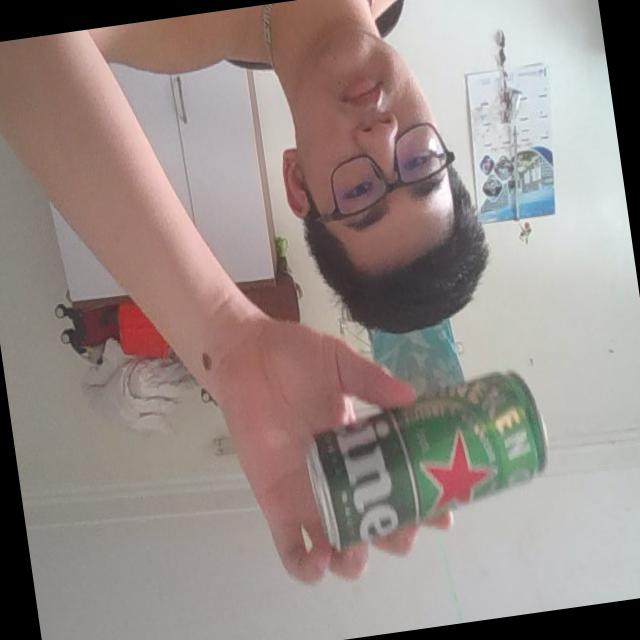Heineken: (299, 362, 556, 553)
